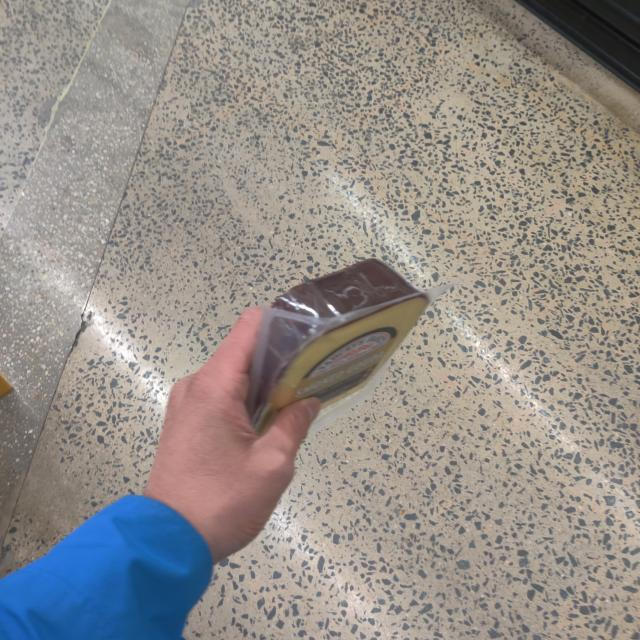Cheese: (263, 256, 432, 425)
